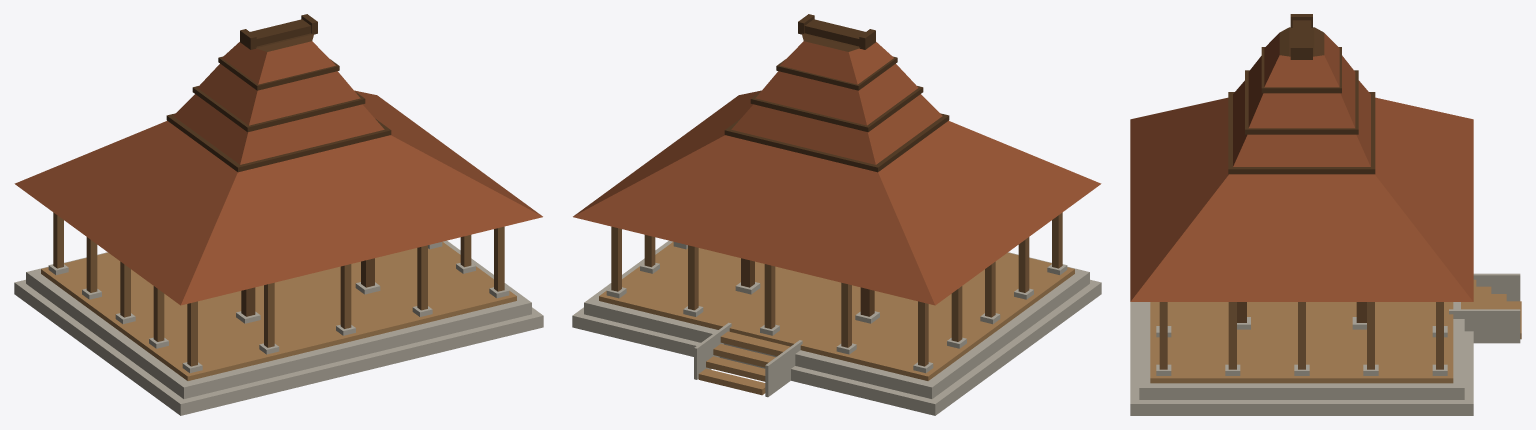
The model's file is joglo-house.glb.
3 renders of one model, left to right at view 1: azimuth 30°, elevation 25°; view 2: azimuth 150°, elevation 25°; view 3: azimuth 270°, elevation 25°, orthographic. The views are drawn at different scales.
Parts seen in each view (by area): view 1: AtapTumpangSari, LantaiTangga, UndakanBatu, SokoKeliling, LisungWuwungan, SakaGuru; view 2: AtapTumpangSari, LantaiTangga, UndakanBatu, SokoKeliling, LisungWuwungan, SakaGuru; view 3: AtapTumpangSari, LantaiTangga, UndakanBatu, LisungWuwungan, SokoKeliling, SakaGuru.
Part boxes in pixels (x1=…): AtapTumpangSari: x1=14, y1=41, x2=542, y2=305; LantaiTangga: x1=41, y1=242, x2=516, y2=380; UndakanBatu: x1=14, y1=240, x2=543, y2=415; SokoKeliling: x1=53, y1=212, x2=504, y2=366; LisungWuwungan: x1=166, y1=14, x2=391, y2=172; SakaGuru: x1=241, y1=258, x2=374, y2=316; AtapTumpangSari: x1=573, y1=41, x2=1101, y2=305; LantaiTangga: x1=599, y1=242, x2=1074, y2=395; UndakanBatu: x1=572, y1=240, x2=1101, y2=415; SokoKeliling: x1=611, y1=212, x2=1062, y2=366; LisungWuwungan: x1=724, y1=14, x2=949, y2=172; SakaGuru: x1=741, y1=258, x2=874, y2=316; AtapTumpangSari: x1=1130, y1=33, x2=1473, y2=301; LantaiTangga: x1=1150, y1=279, x2=1521, y2=383; UndakanBatu: x1=1130, y1=273, x2=1520, y2=415; LisungWuwungan: x1=1228, y1=14, x2=1375, y2=174; SokoKeliling: x1=1159, y1=302, x2=1443, y2=369; SakaGuru: x1=1237, y1=302, x2=1366, y2=322.
Bounding box in the file's own units: 9.7 × 7.27 × 8.78.
